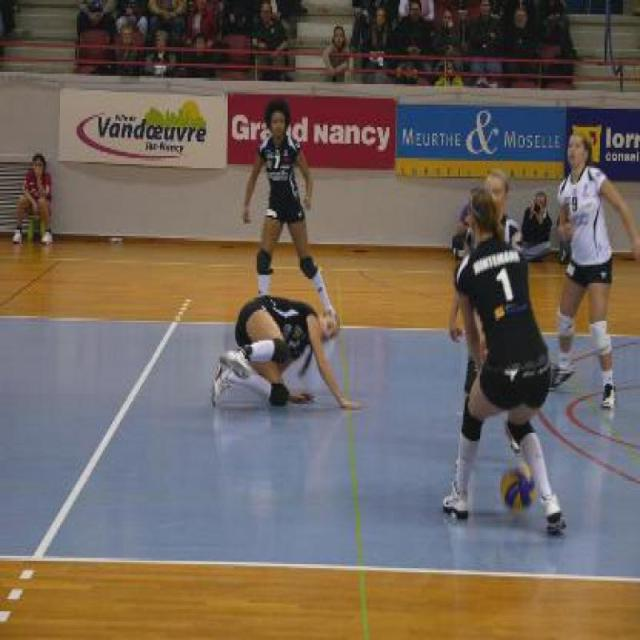volleyball: (498, 462, 536, 512)
